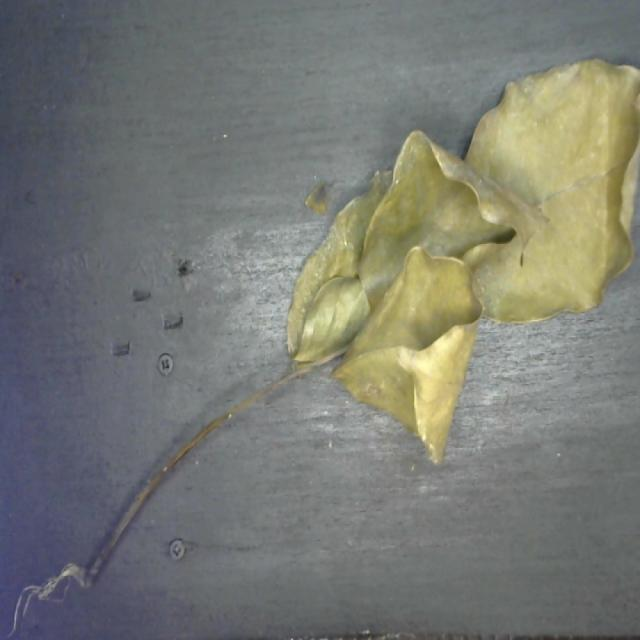biodegradable: (275, 51, 640, 477)
